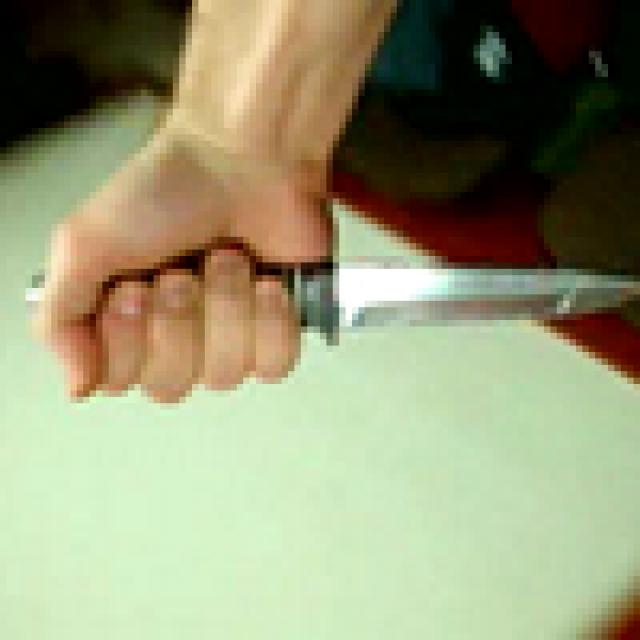weapon: (19, 243, 640, 397)
